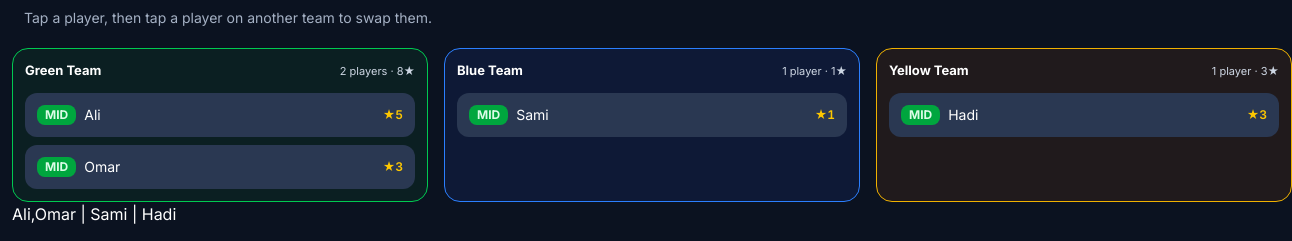
Test case: swaps two players by tapping one and then a player on another team
Click the button "MID Ali ★5": (57, 114) [25,92,415,136]
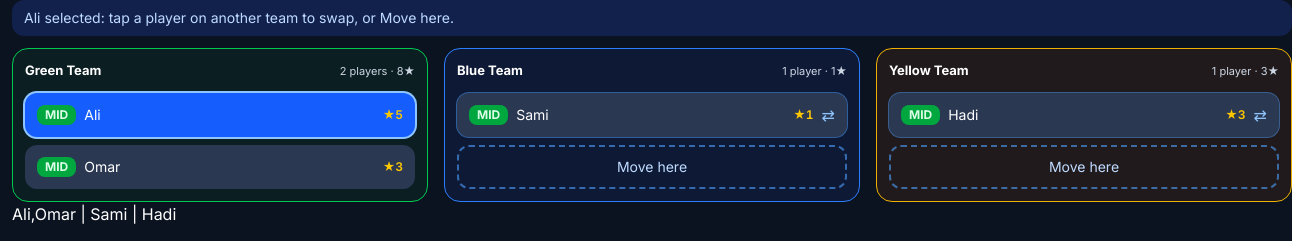
Click the button "MID Sami ★1 ⇄": (489, 114) [457,92,847,136]
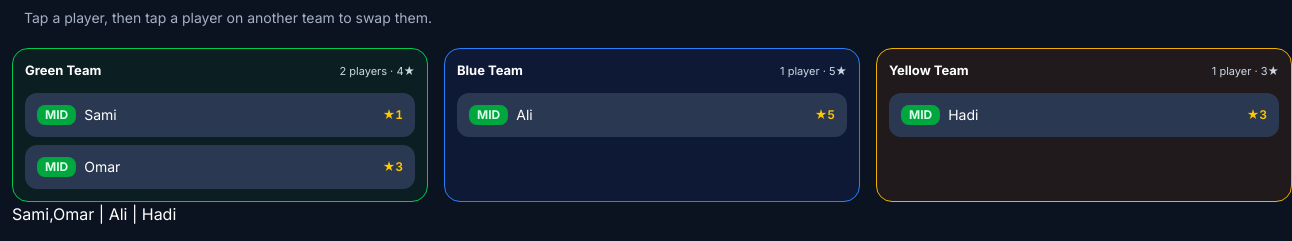
Now the text with test id "state" reads "Sami,Omar | Ali | Hadi", box [12,204,176,224]
